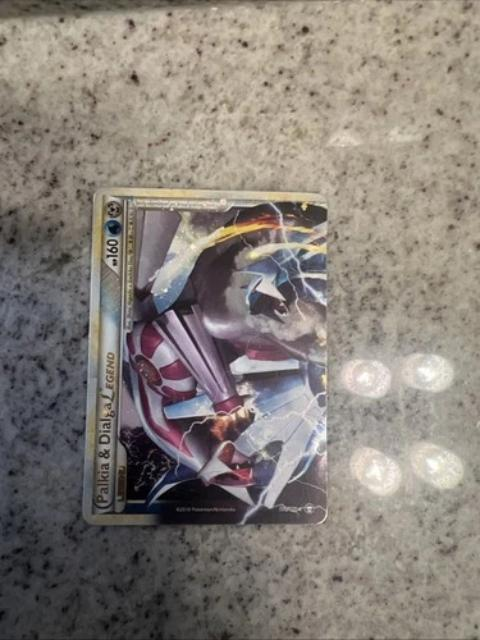Card: (80, 183, 333, 531)
Name: (92, 340, 120, 510)
